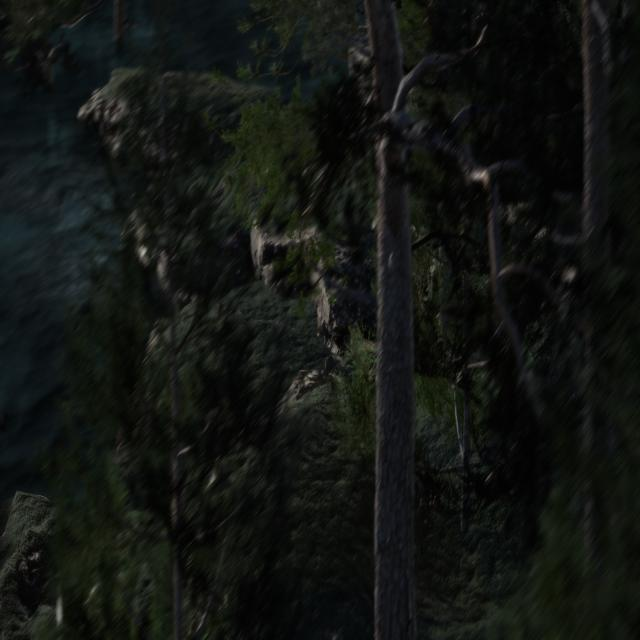Human: (326, 330, 380, 379)
